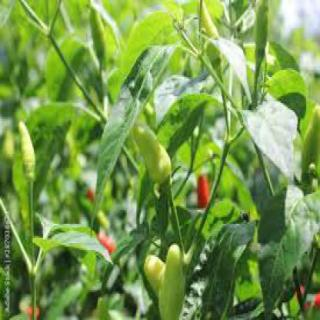green_chilli: (134, 122, 173, 187), (160, 241, 186, 318), (15, 119, 44, 183), (143, 252, 165, 296)
